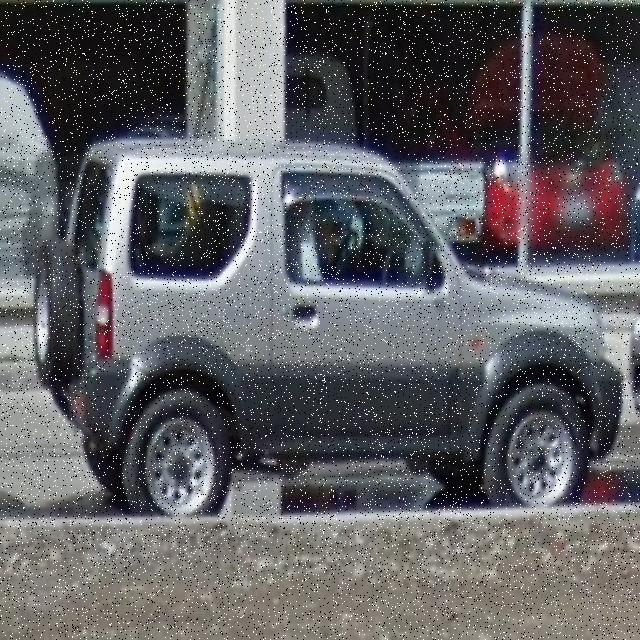cars: (36, 130, 620, 521)
